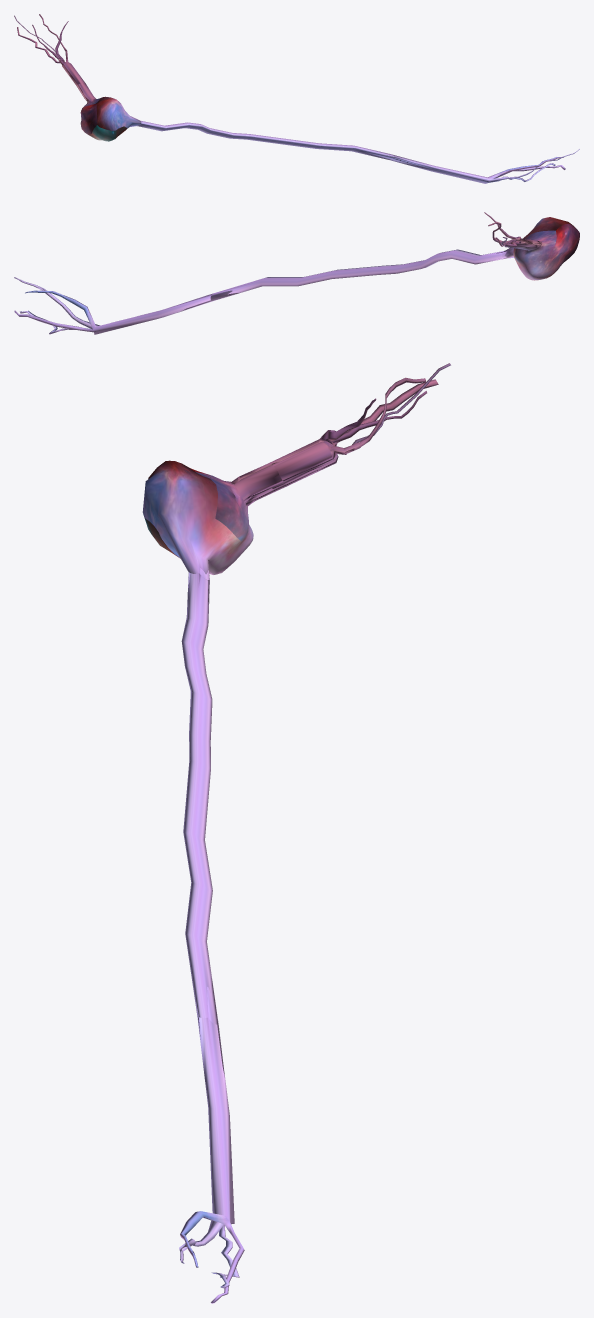
The model's file is lastneuron1.fbx.
3 views of the same model, one above another, from view 1: azimuth 30°, elevation 25°; view 2: azimuth 150°, elevation 25°; view 3: azimuth 270°, elevation 25° (orthographic). The views are drawn at different scales.
Visible parts, largest first — view 1: done 4.001 ex; view 2: done 4.001 ex; view 3: done 4.001 ex.
Boxes of the visible parts, x1,y1,x2,y2 form: done 4.001 ex: (14,14,579,183); done 4.001 ex: (14,212,579,334); done 4.001 ex: (142,363,450,1303).
Size of the model in its own units: 108558 by 48916 by 28825.
